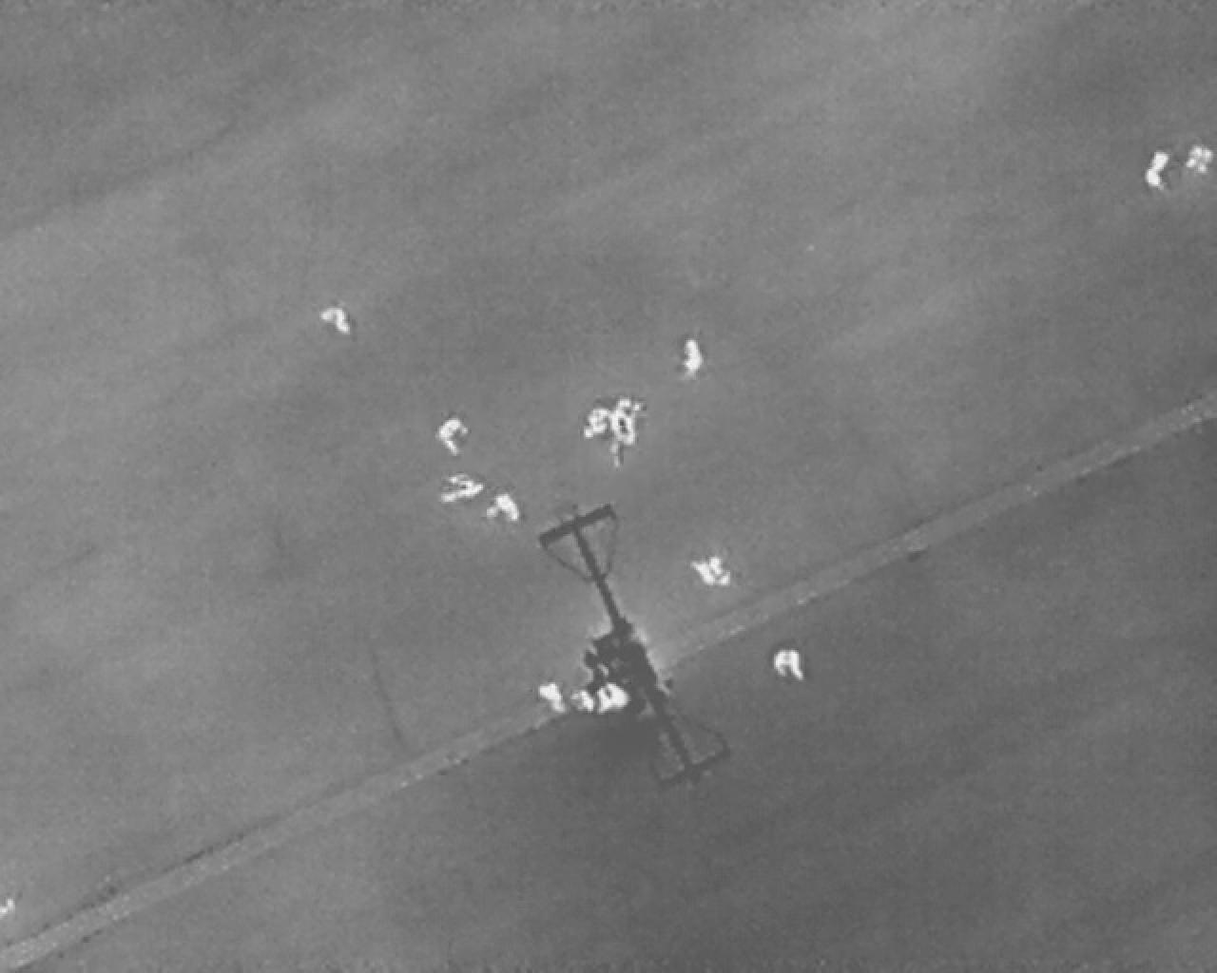person: (435, 468, 488, 508), (609, 394, 642, 446), (689, 554, 735, 588), (319, 299, 358, 337), (486, 489, 522, 525), (436, 419, 469, 455), (1144, 149, 1170, 193), (596, 685, 630, 717), (1184, 142, 1216, 176), (537, 681, 568, 715), (773, 651, 805, 683), (585, 408, 609, 444), (684, 339, 705, 373)
